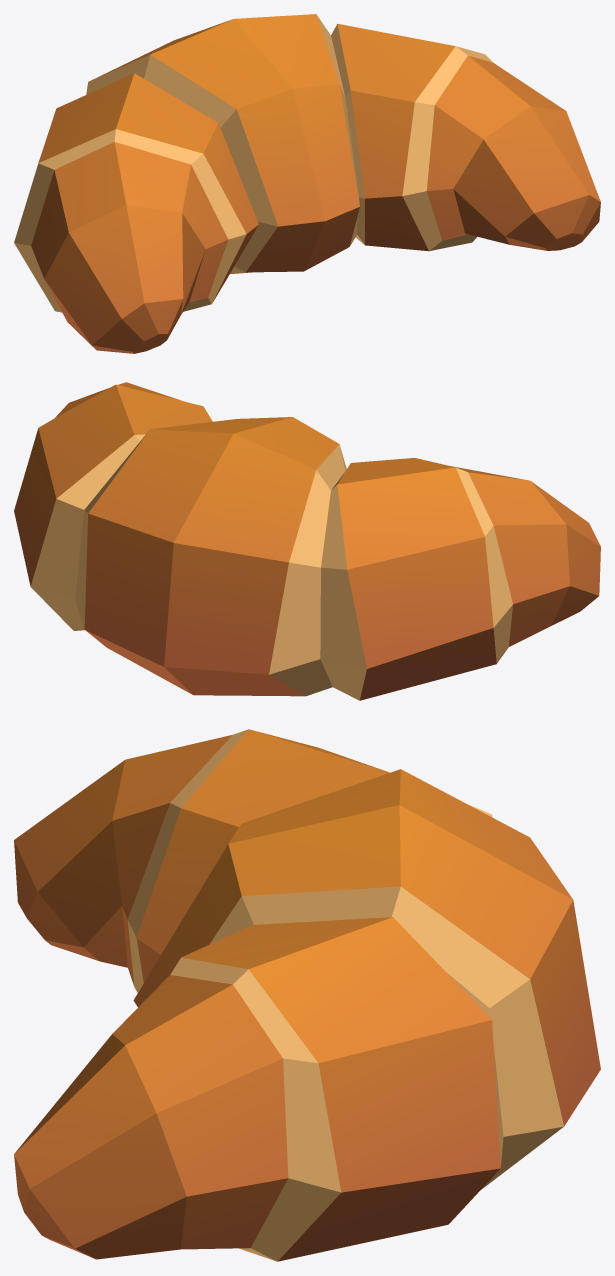
The model's file is croissant.FBX.
The picture shows the model from 3 angles, top to bottom: view 1: azimuth 30°, elevation 25°; view 2: azimuth 150°, elevation 25°; view 3: azimuth 270°, elevation 25°; orthographic projection. The views are drawn at different scales.
Visible parts, largest first — view 1: croissant; view 2: croissant; view 3: croissant.
Part boxes in pixels (x1=…): croissant: x1=14, y1=14, x2=600, y2=353; croissant: x1=14, y1=382, x2=600, y2=700; croissant: x1=14, y1=729, x2=600, y2=1261.
Size of the model in its own units: 2.36 by 1.02 by 1.58.
